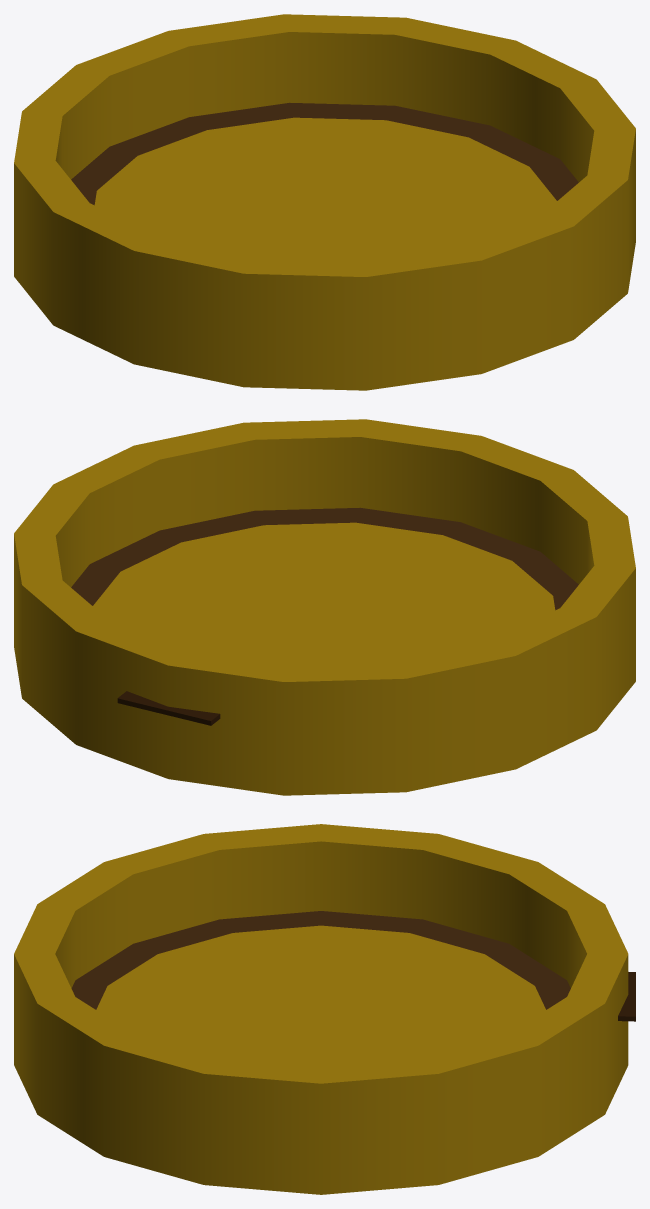
File: 1Compass (1).fbx
3 renders of one model, top to bottom at view 1: azimuth 30°, elevation 25°; view 2: azimuth 150°, elevation 25°; view 3: azimuth 270°, elevation 25°, orthographic. The views are drawn at different scales.
Visible parts, largest first — view 1: Cylinder; view 2: Cylinder, Cube; view 3: Cylinder, Cube.
Boxes of the visible parts, x1,y1,x2,y2 form: Cylinder: (14,14,635,390); Cylinder: (14,419,635,795); Cube: (117,691,220,725); Cylinder: (14,824,628,1194); Cube: (618,972,635,1021).
Bounding box in the file's own units: 100 × 19.97 × 101.
